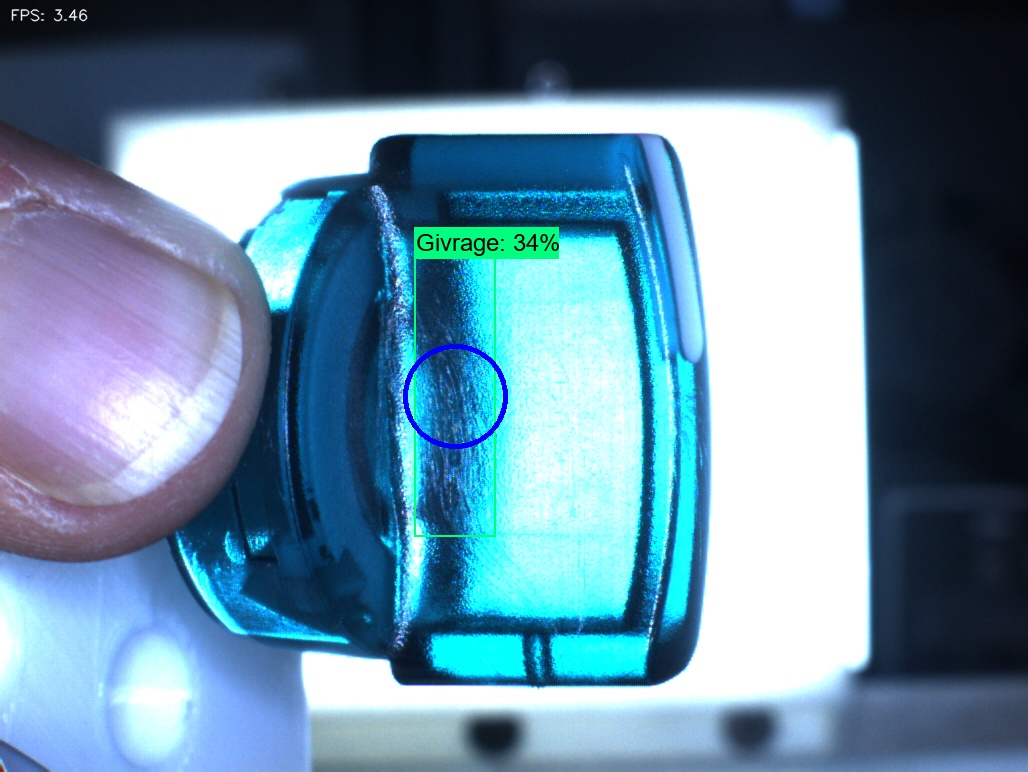Bulle: (492, 602, 586, 709)
